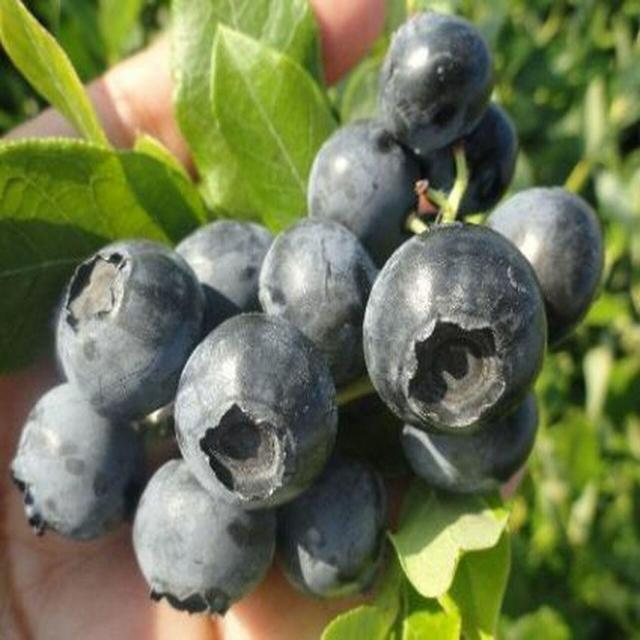BlueBerry - v1: (356, 214, 564, 446), (165, 308, 345, 508), (54, 236, 216, 424), (126, 448, 286, 620), (9, 374, 165, 544), (252, 207, 390, 394), (473, 178, 611, 338), (361, 1, 498, 159), (383, 381, 547, 508), (302, 111, 436, 262), (273, 443, 399, 600), (152, 197, 290, 327), (422, 92, 528, 219)
